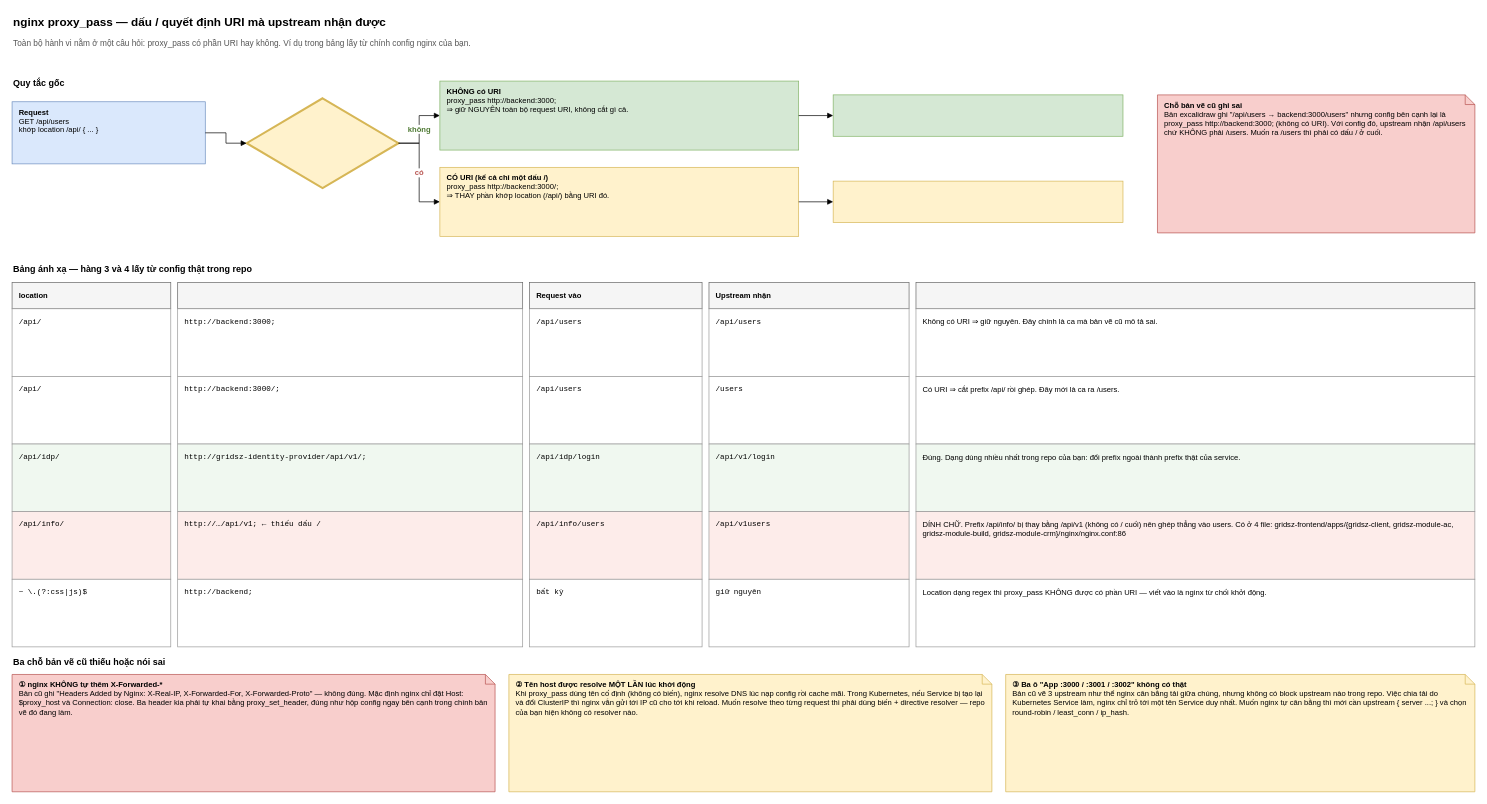
Some shapes in this 1487 by 804 pixel diagram are drawn without their labels. Each missing label, with the centre of its shape:
"backend:3000/api/users" belongs at point 977,115.
"backend:3000/users" belongs at point 977,201.
"Ghi chú" belongs at point 1195,295.
"proxy_pass" belongs at point 350,295.
"proxy_pass có phần URI không ?" belongs at point 322,143.
